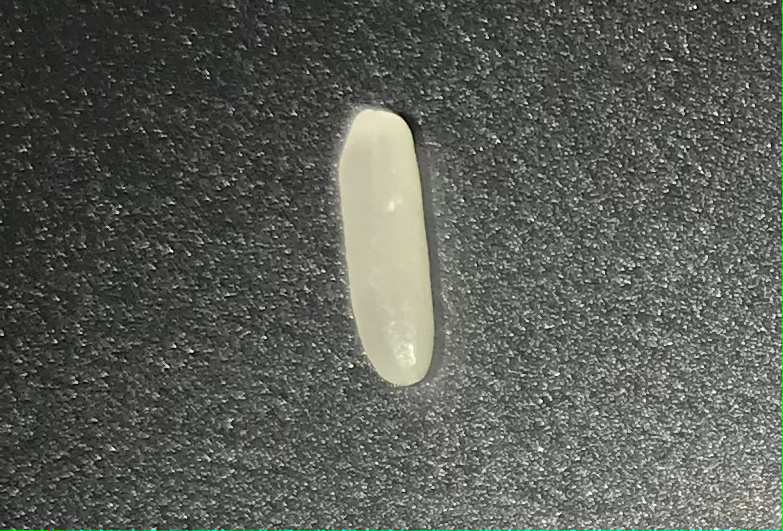Gao Thom My: (335, 95, 446, 394)
